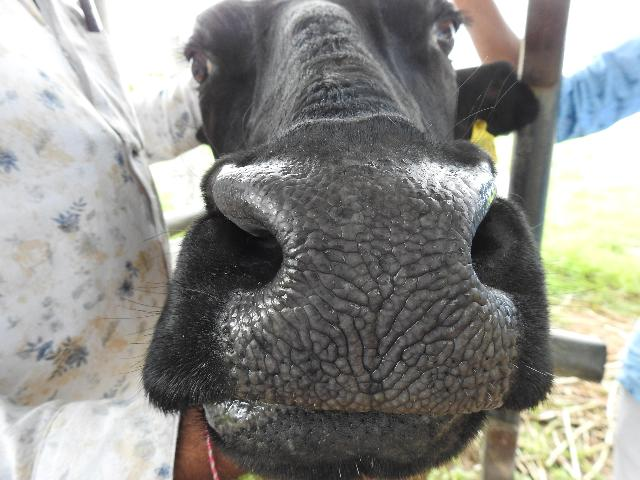Muzzle: (266, 170, 486, 409)
